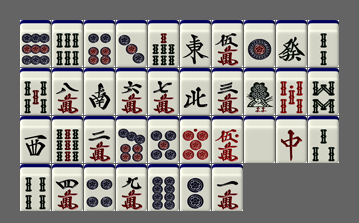0m: (212, 116, 243, 163)
0p: (180, 116, 211, 163)
0s: (276, 68, 307, 115)
1m: (212, 164, 243, 211)
1p: (244, 20, 275, 67)
1s: (244, 68, 275, 115)
1z: (180, 20, 211, 67)
2m: (84, 116, 115, 163)
2p: (180, 164, 211, 211)
2s: (308, 20, 339, 67)
2z: (84, 68, 115, 115)
3m: (212, 68, 243, 115)
3p: (116, 20, 147, 67)
3s: (308, 116, 339, 163)
3z: (20, 116, 51, 163)
4m: (52, 164, 83, 211)
4p: (84, 164, 115, 211)
4s: (20, 164, 51, 211)
4z: (180, 68, 211, 115)
5m: (212, 20, 243, 67)
5p: (148, 116, 179, 163)
5s: (20, 68, 51, 115)
5z: (244, 116, 275, 163)
6m: (116, 68, 147, 115)
6p: (84, 20, 115, 67)
6s: (52, 20, 83, 67)
6z: (276, 20, 307, 67)
7m: (148, 68, 179, 115)
7p: (116, 116, 147, 163)
7s: (148, 20, 179, 67)
7z: (276, 116, 307, 163)
8m: (52, 68, 83, 115)
8p: (148, 164, 179, 211)
8s: (308, 68, 339, 115)
9m: (116, 164, 147, 211)
9p: (20, 20, 51, 67)
9s: (52, 116, 83, 163)
